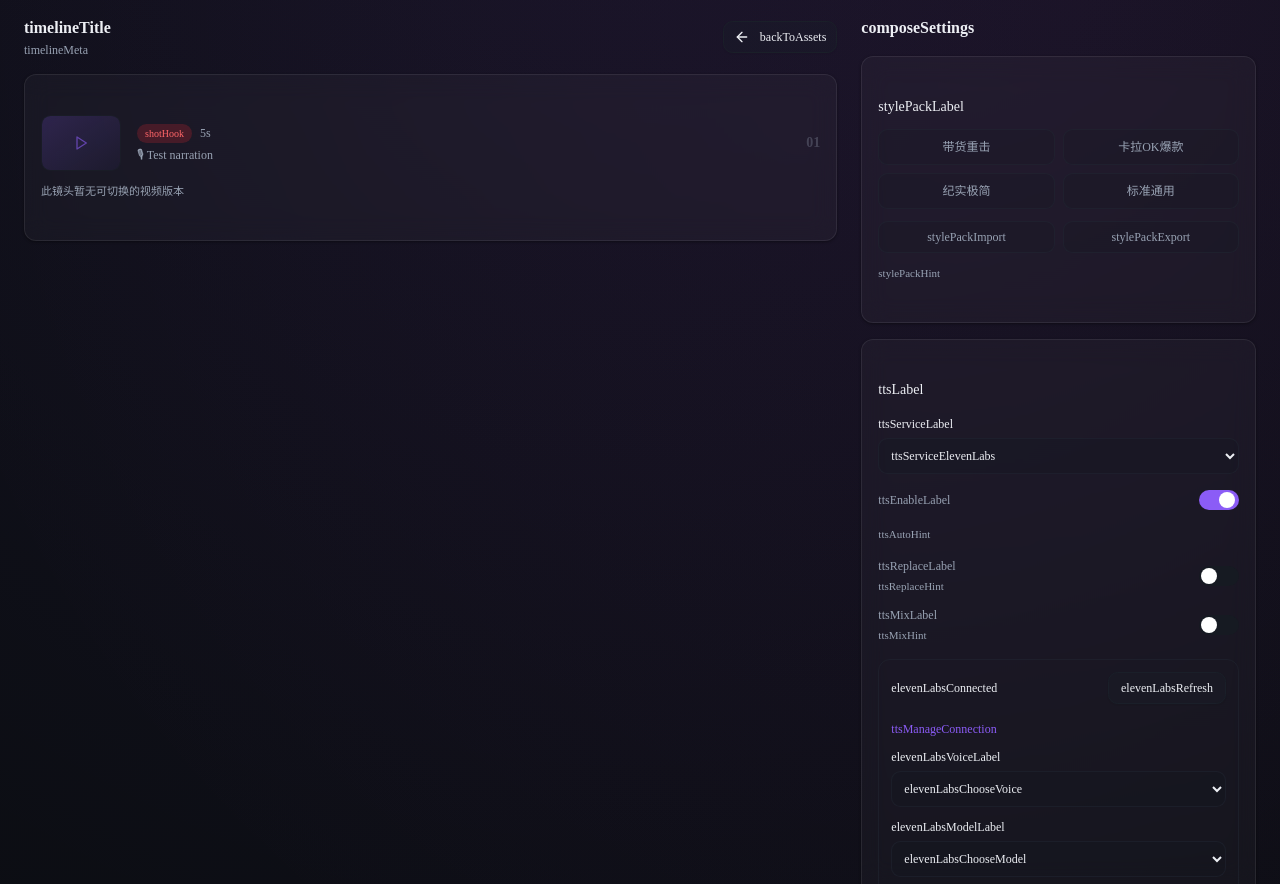
Test: settings-owned voice services › shows an ElevenLabs preview error without starting composition or retrying generation automatically
The image size is (1280, 884).
Step 1. Select "ttsServiceElevenLabs" in the dropdown labelled "ttsServiceLabel" → (1059, 456), box [878, 438, 1239, 474]
Step 2. Select "My cloned voice · elevenLabsClonedVoice" in the dropdown labelled "elevenLabsVoiceLabel" → (1059, 789), box [891, 771, 1226, 807]
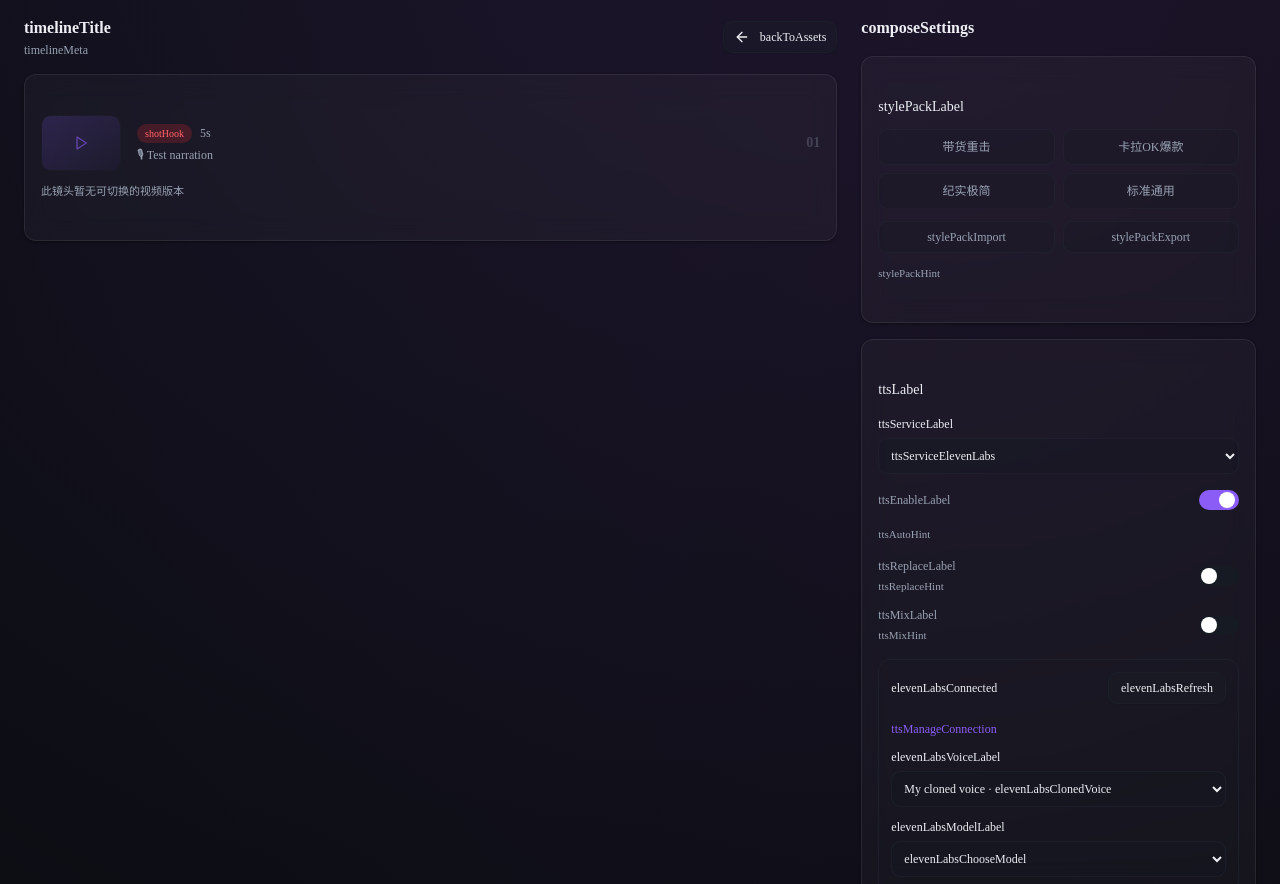
Step 3. Select "Eleven Multilingual v2" in the dropdown labelled "elevenLabsModelLabel" → (1059, 859), box [891, 841, 1226, 877]
(page scrolled)
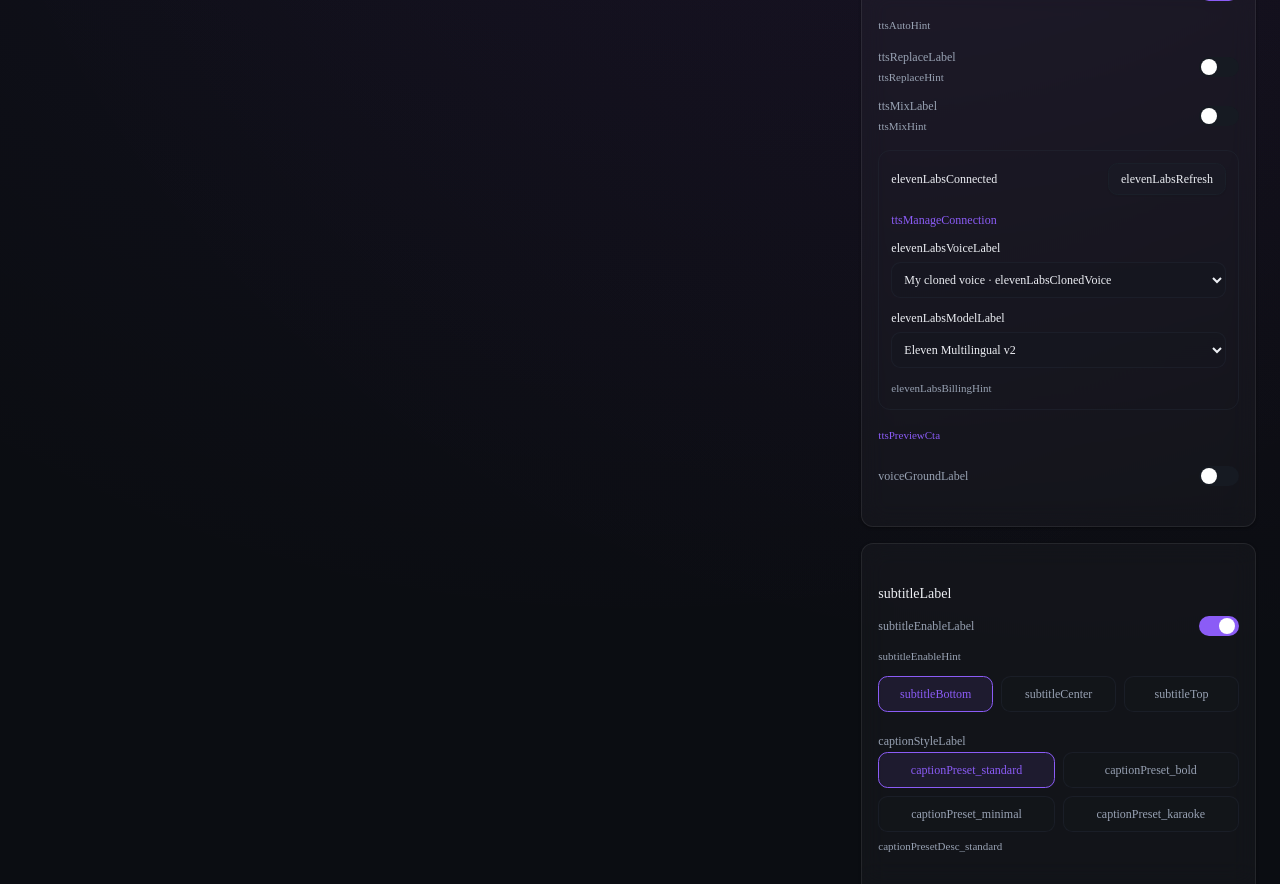
Step 4. Click the button "ttsPreviewCta" → (909, 435), box [878, 426, 940, 443]
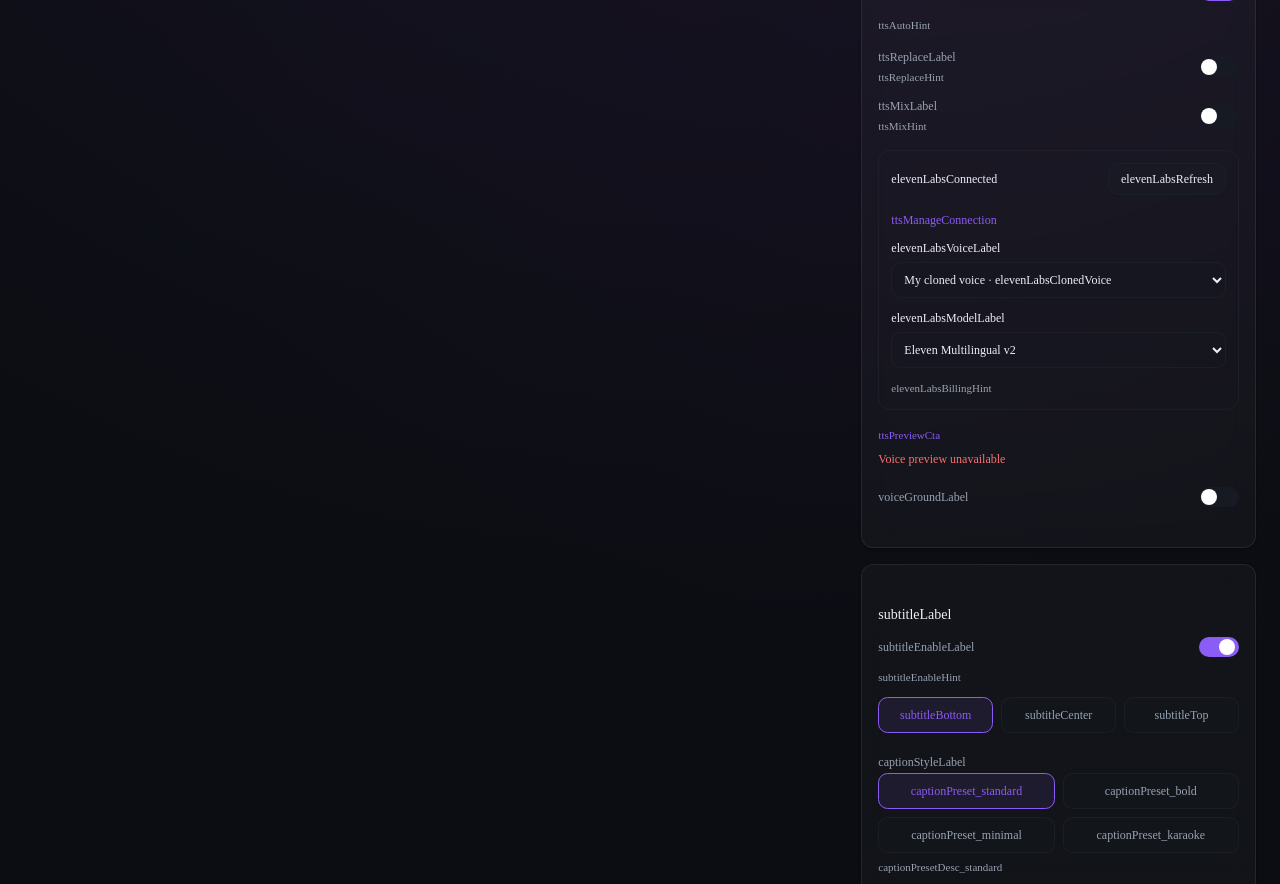
Check: the button "ttsPreviewCta" is enabled, box [878, 426, 940, 443]
Check: the message "Voice preview unavailable" is shown, box [878, 452, 1005, 466]
